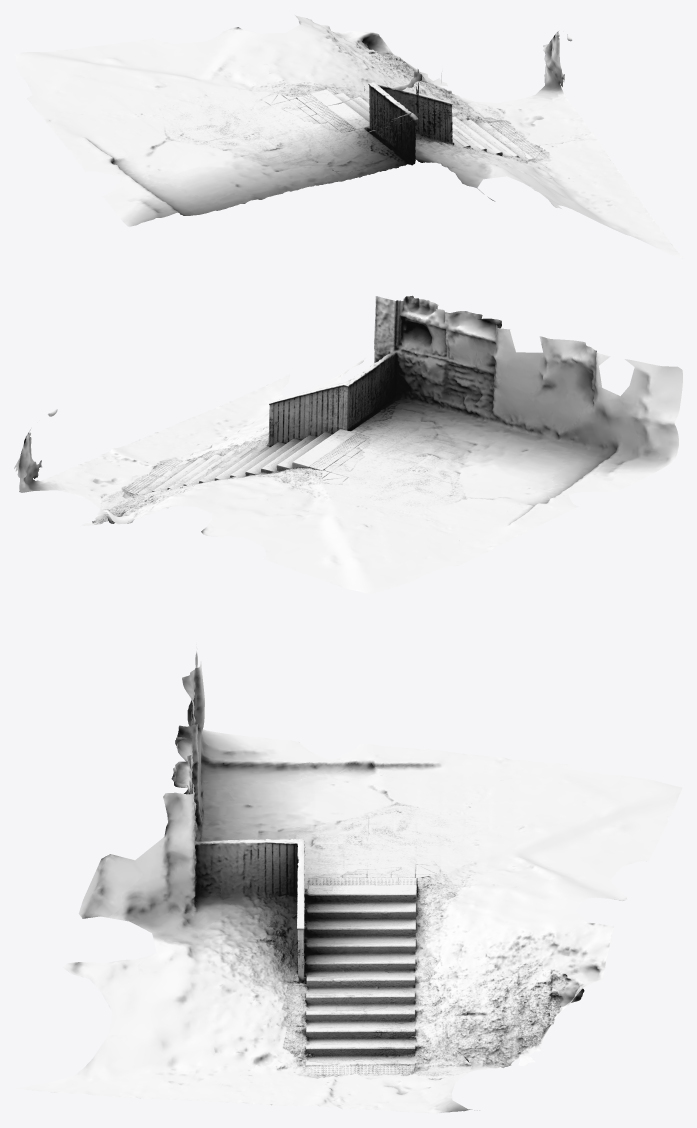
File: Stigi-transformed.glb
3 renders of one model, top to bottom at view 1: azimuth 30°, elevation 25°; view 2: azimuth 150°, elevation 25°; view 3: azimuth 270°, elevation 25°, orthographic. The views are drawn at different scales.
Visible parts, largest first — view 1: Mesh_0; view 2: Mesh_0; view 3: Mesh_0.
Boxes of the visible parts, bbox=[...] form: Mesh_0: bbox=[14, 15, 682, 258]; Mesh_0: bbox=[14, 295, 682, 595]; Mesh_0: bbox=[15, 644, 682, 1113].
Size of the model in its own units: 14.21 by 4.43 by 13.2.
Materials: 1 (1 with a texture image).
